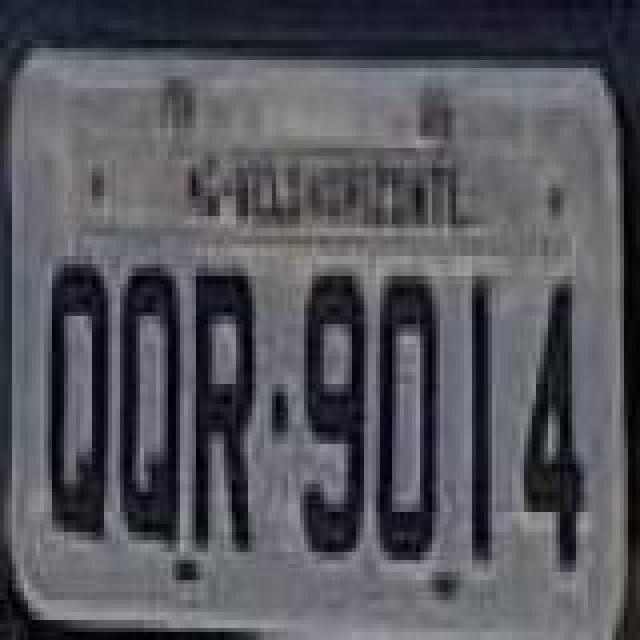1: (462, 268, 498, 564)
4: (516, 280, 588, 576)
9: (300, 268, 372, 564)
O: (372, 268, 444, 564)
Q: (42, 260, 118, 548), (116, 264, 188, 552)
R: (188, 272, 260, 560)
